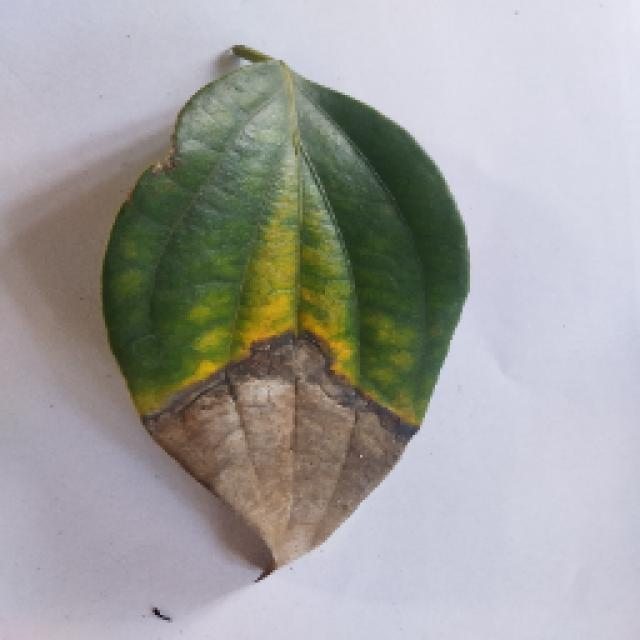footrot: (58, 53, 490, 605)
